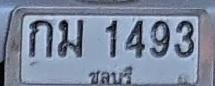1: (106, 20, 118, 58)
3: (174, 20, 194, 57)
4: (125, 20, 145, 58)
9: (150, 20, 170, 57)
A01: (29, 19, 53, 57)
A33: (58, 19, 84, 57)
CBI: (86, 61, 137, 86)
